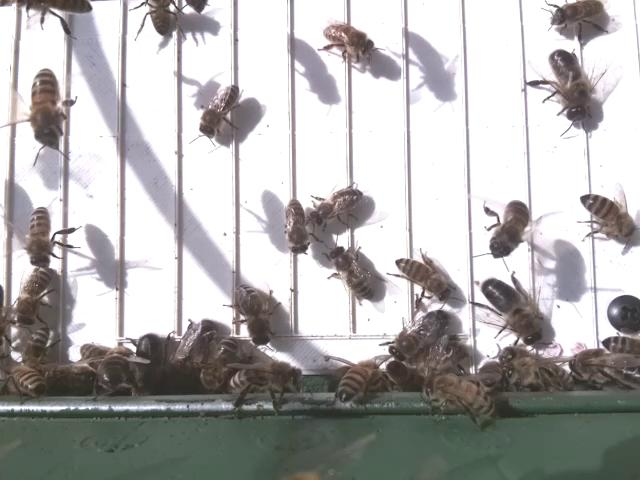Drone: (477, 274, 547, 350), (546, 46, 594, 130)
Worker: (386, 310, 454, 365), (577, 189, 640, 242), (29, 65, 63, 155), (10, 263, 57, 328), (308, 184, 370, 232), (390, 254, 453, 301), (318, 19, 384, 63), (486, 198, 529, 262), (235, 283, 278, 347), (194, 85, 242, 142), (328, 248, 376, 303), (25, 202, 54, 275), (544, 0, 608, 33), (282, 198, 308, 257)
